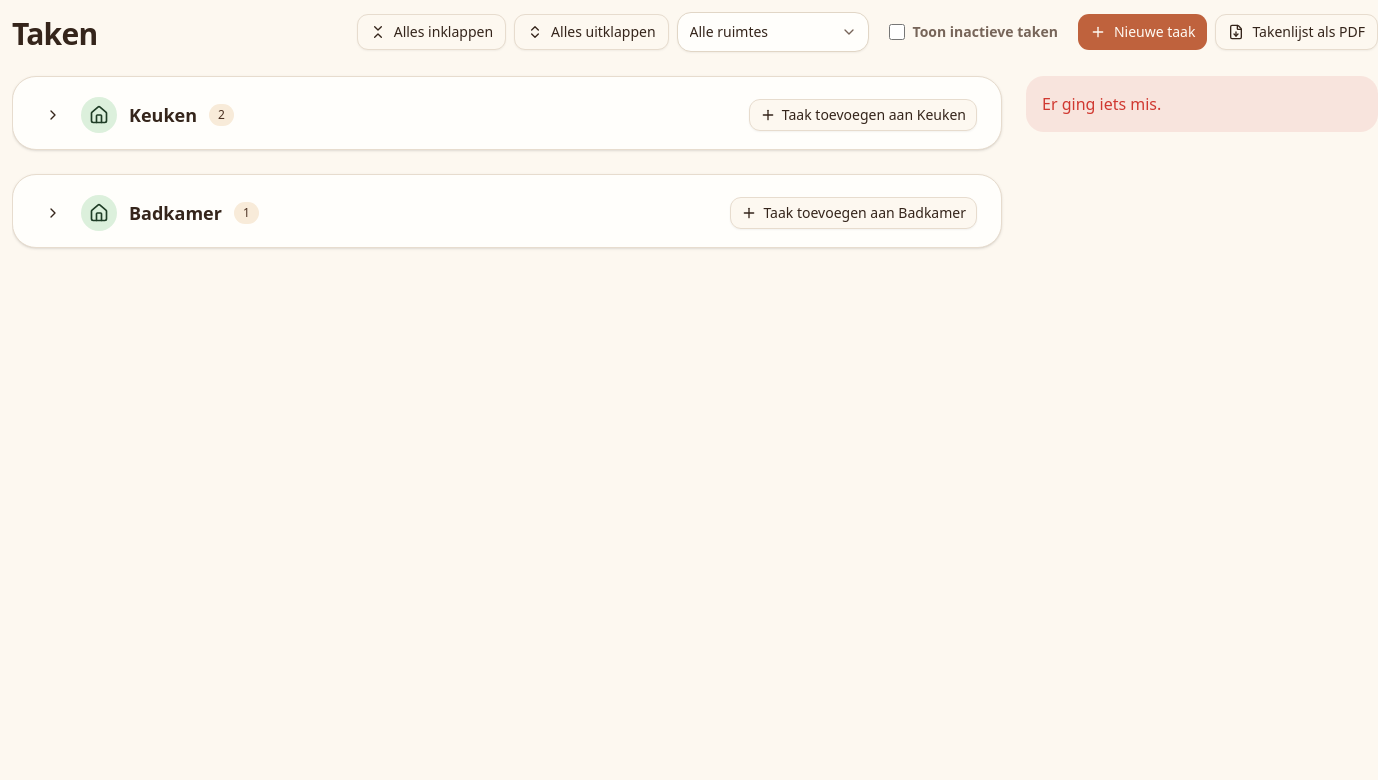
TasksPage — grouping › shows inactive tasks when asked
Click the checkbox labelled "Toon inactieve taken" at {"x": 896, "y": 32}, box [888,24,904,40]
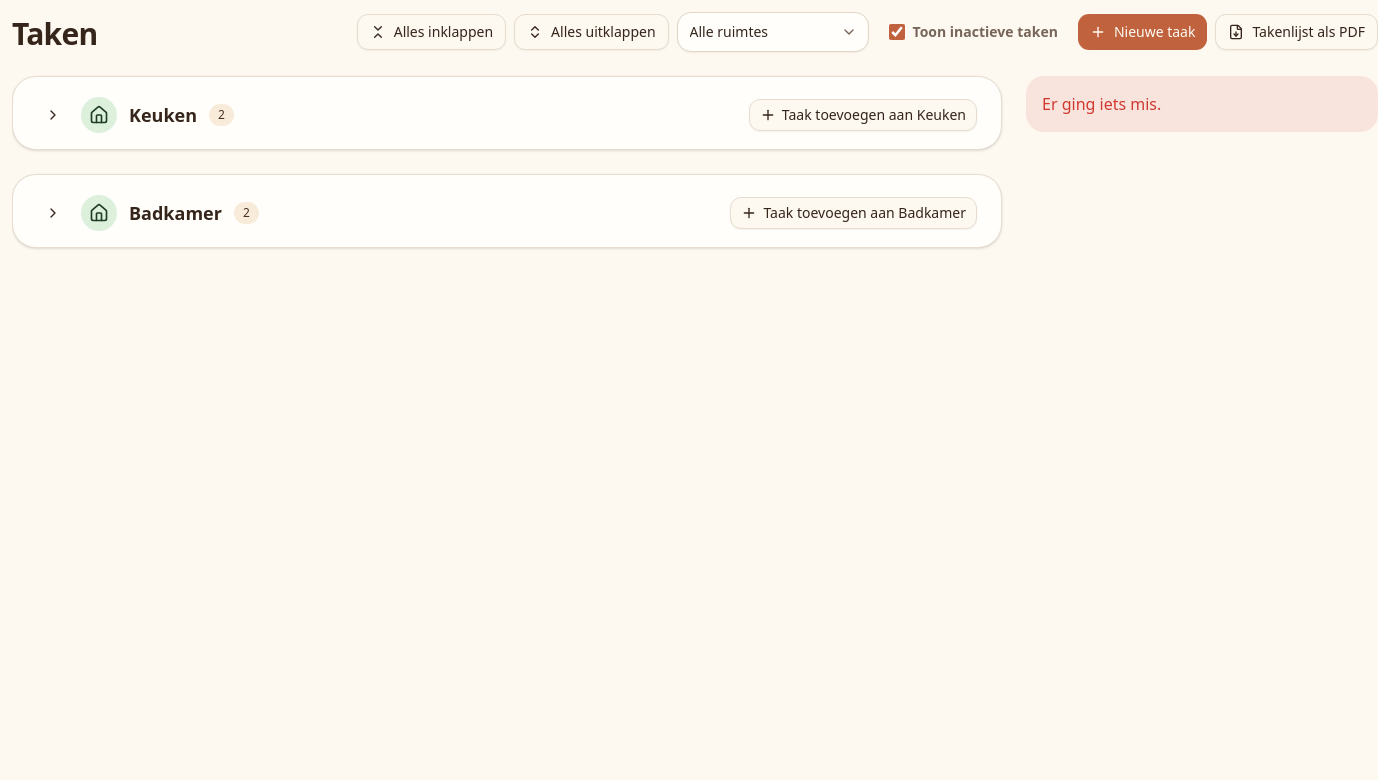
Click the button "Alles uitklappen" at {"x": 591, "y": 32}, box [514,14,669,50]
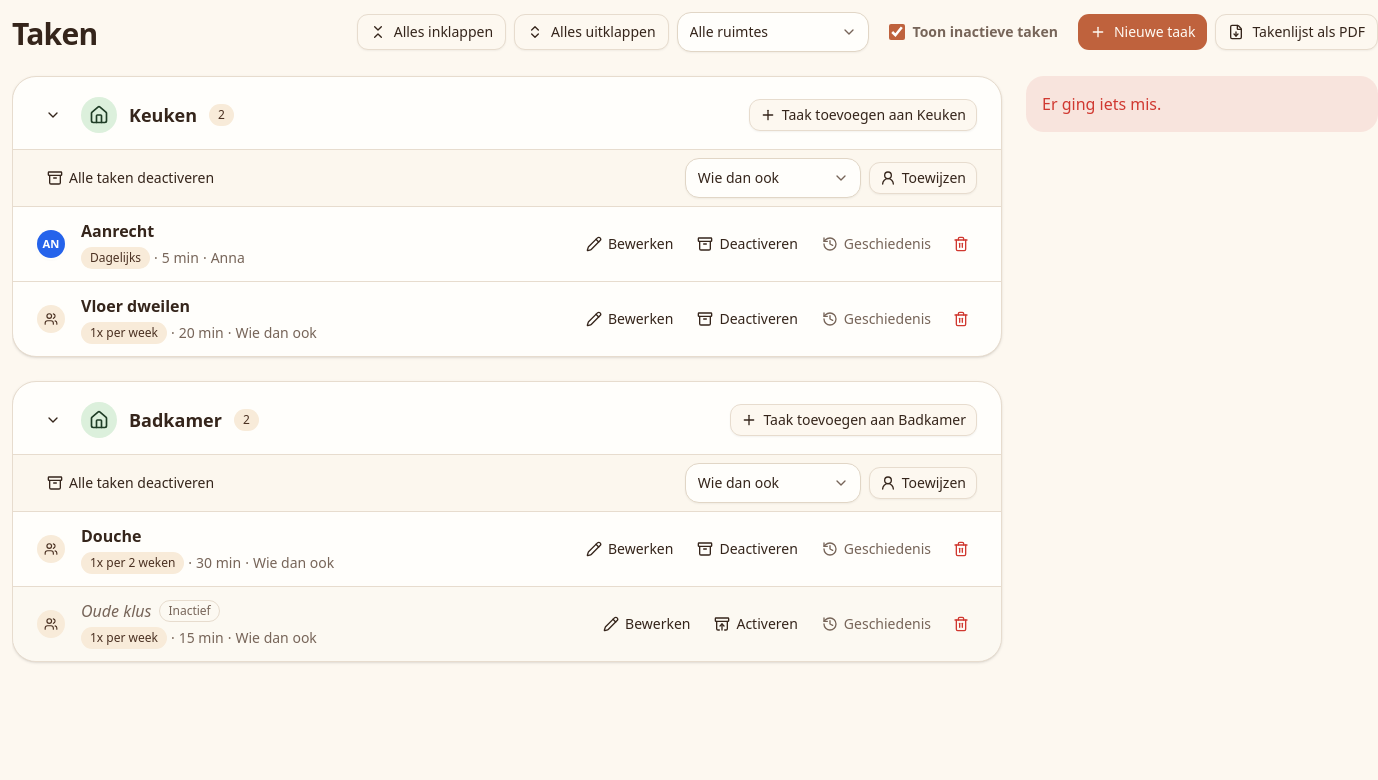
Now the list item "Oude klus" shows "Inactief", box [168,602,211,619]
Now the button with aria-label "Oude klus activeren" is shown, box [704,608,808,640]
